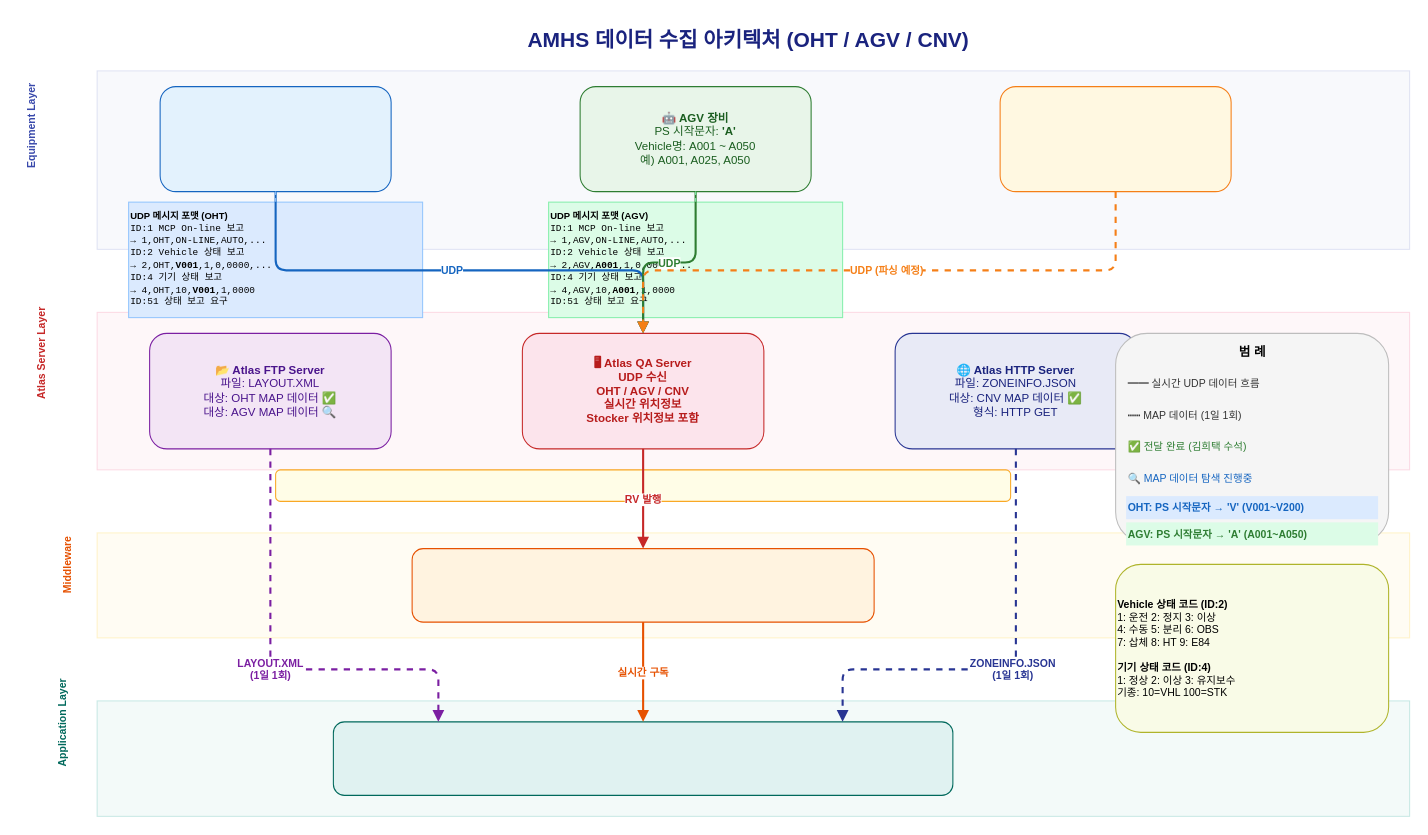
The diagram is 1428 pixels wide and 835 high, and some of its shapes have lost their labels. The shapes that lost their labels are listed below. From the top down, each one's box as (x1, y1, x2, y2) in pixels, then its label:
(159, 86, 391, 192): 🚃 OHT 장비 (Rail) PS 시작문자: 'V' Vehicle명: V001 ~ V200 예) V001, V025, V200
(999, 86, 1231, 192): 📦 CNV 장비 (Conveyor) 파싱 처리 예정중 Zone 기반 이동 (데이터 구간 확인중)
(275, 469, 1011, 501): ⏱ MAP 데이터: 하루 1회 업로드 (아무 시간대)
(411, 548, 874, 622): 📡 TIBCO Rendezvous (RV) 실시간 데이터 미들웨어 브로커 OHT · AGV · CNV 통합 발행/구독
(332, 721, 953, 795): 🏭 AMHS 모니터링 시스템 실시간 위치 추적 · MAP 시각화 · OHT / AGV / CNV 통합 뷰
